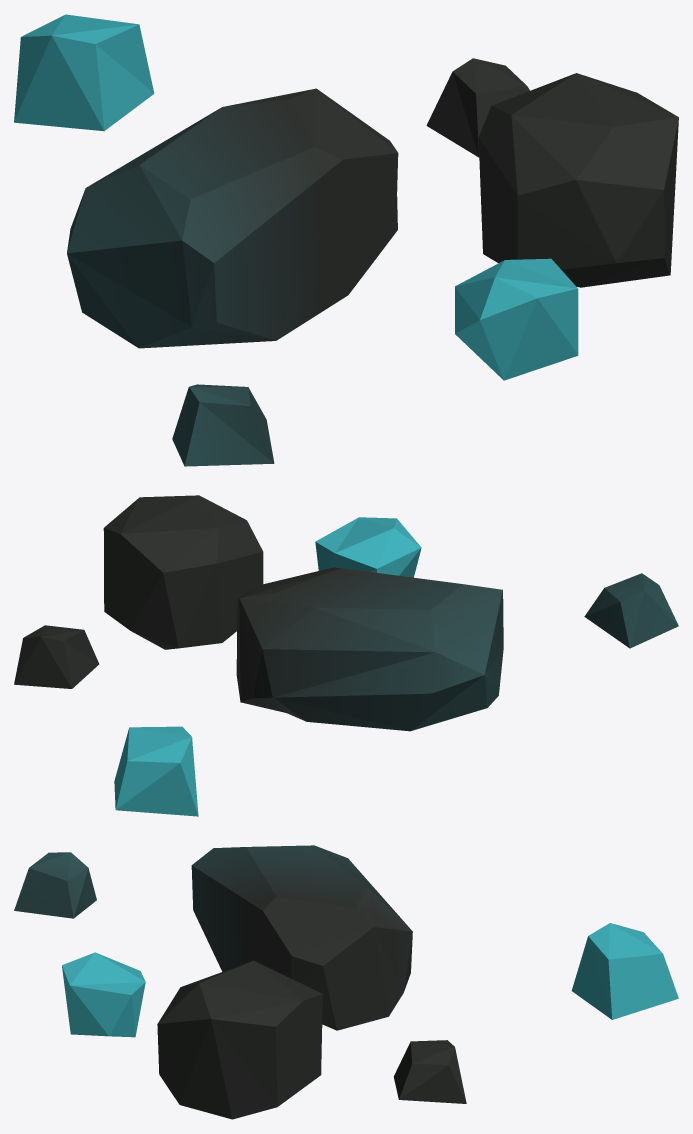
The model's file is SM_Gen_Env_Rock_Pebbles_03.glb.
3 renders of one model, top to bottom at view 1: azimuth 30°, elevation 25°; view 2: azimuth 150°, elevation 25°; view 3: azimuth 270°, elevation 25°, orthographic. The views are drawn at different scales.
Parts seen in each view (by area): view 1: SM_Gen_Env_Rock_Pebbles_03; view 2: SM_Gen_Env_Rock_Pebbles_03; view 3: SM_Gen_Env_Rock_Pebbles_03.
Boxes of the visible parts, left/top/right/bottom form: SM_Gen_Env_Rock_Pebbles_03: left=14, top=14, right=678, bottom=466; SM_Gen_Env_Rock_Pebbles_03: left=14, top=495, right=678, bottom=816; SM_Gen_Env_Rock_Pebbles_03: left=14, top=845, right=678, bottom=1119.
Bounding box in the file's own units: 0.7664 × 0.2031 × 0.9919.
Materials: 1 (1 with a texture image).
